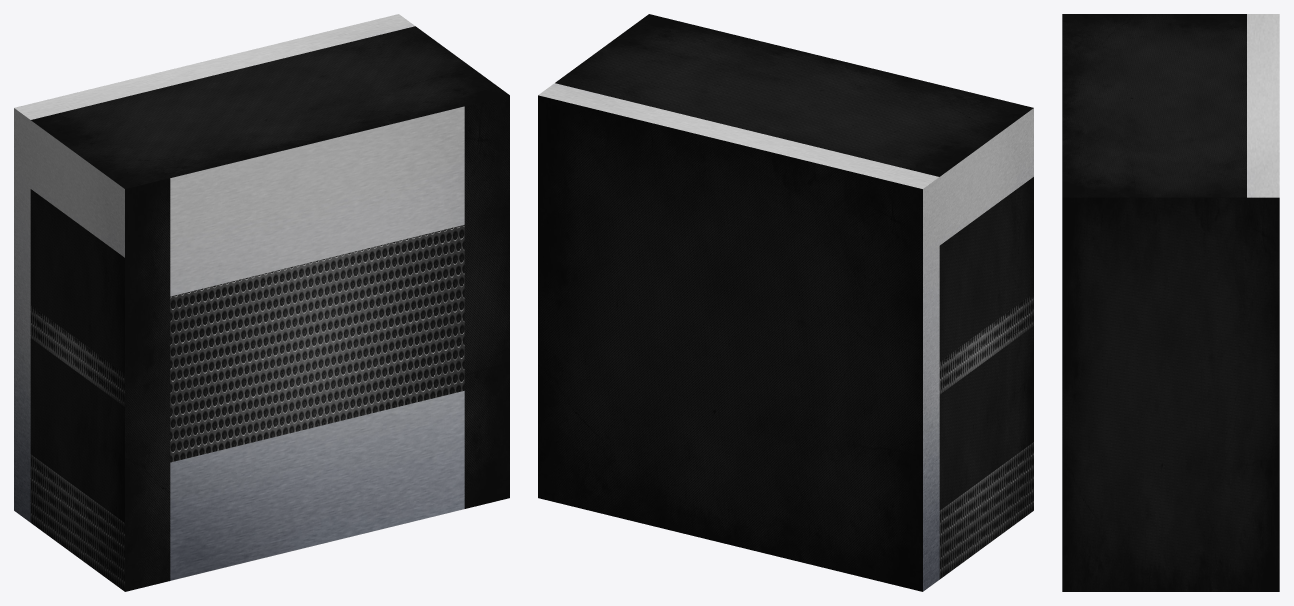
File: CPU.FBX
The picture shows the model from 3 angles, left to right: view 1: azimuth 30°, elevation 25°; view 2: azimuth 150°, elevation 25°; view 3: azimuth 270°, elevation 25°; orthographic projection. The views are drawn at different scales.
Visible parts, largest first — view 1: Cpu; view 2: Cpu; view 3: Cpu.
Boxes of the visible parts, <box> form: Cpu: <box>14,14,509,591</box>; Cpu: <box>538,14,1033,591</box>; Cpu: <box>1062,14,1279,591</box>.
Bounding box in the file's own units: 10.24 × 10.24 × 5.12.
Materials: 3 (3 with a texture image).
